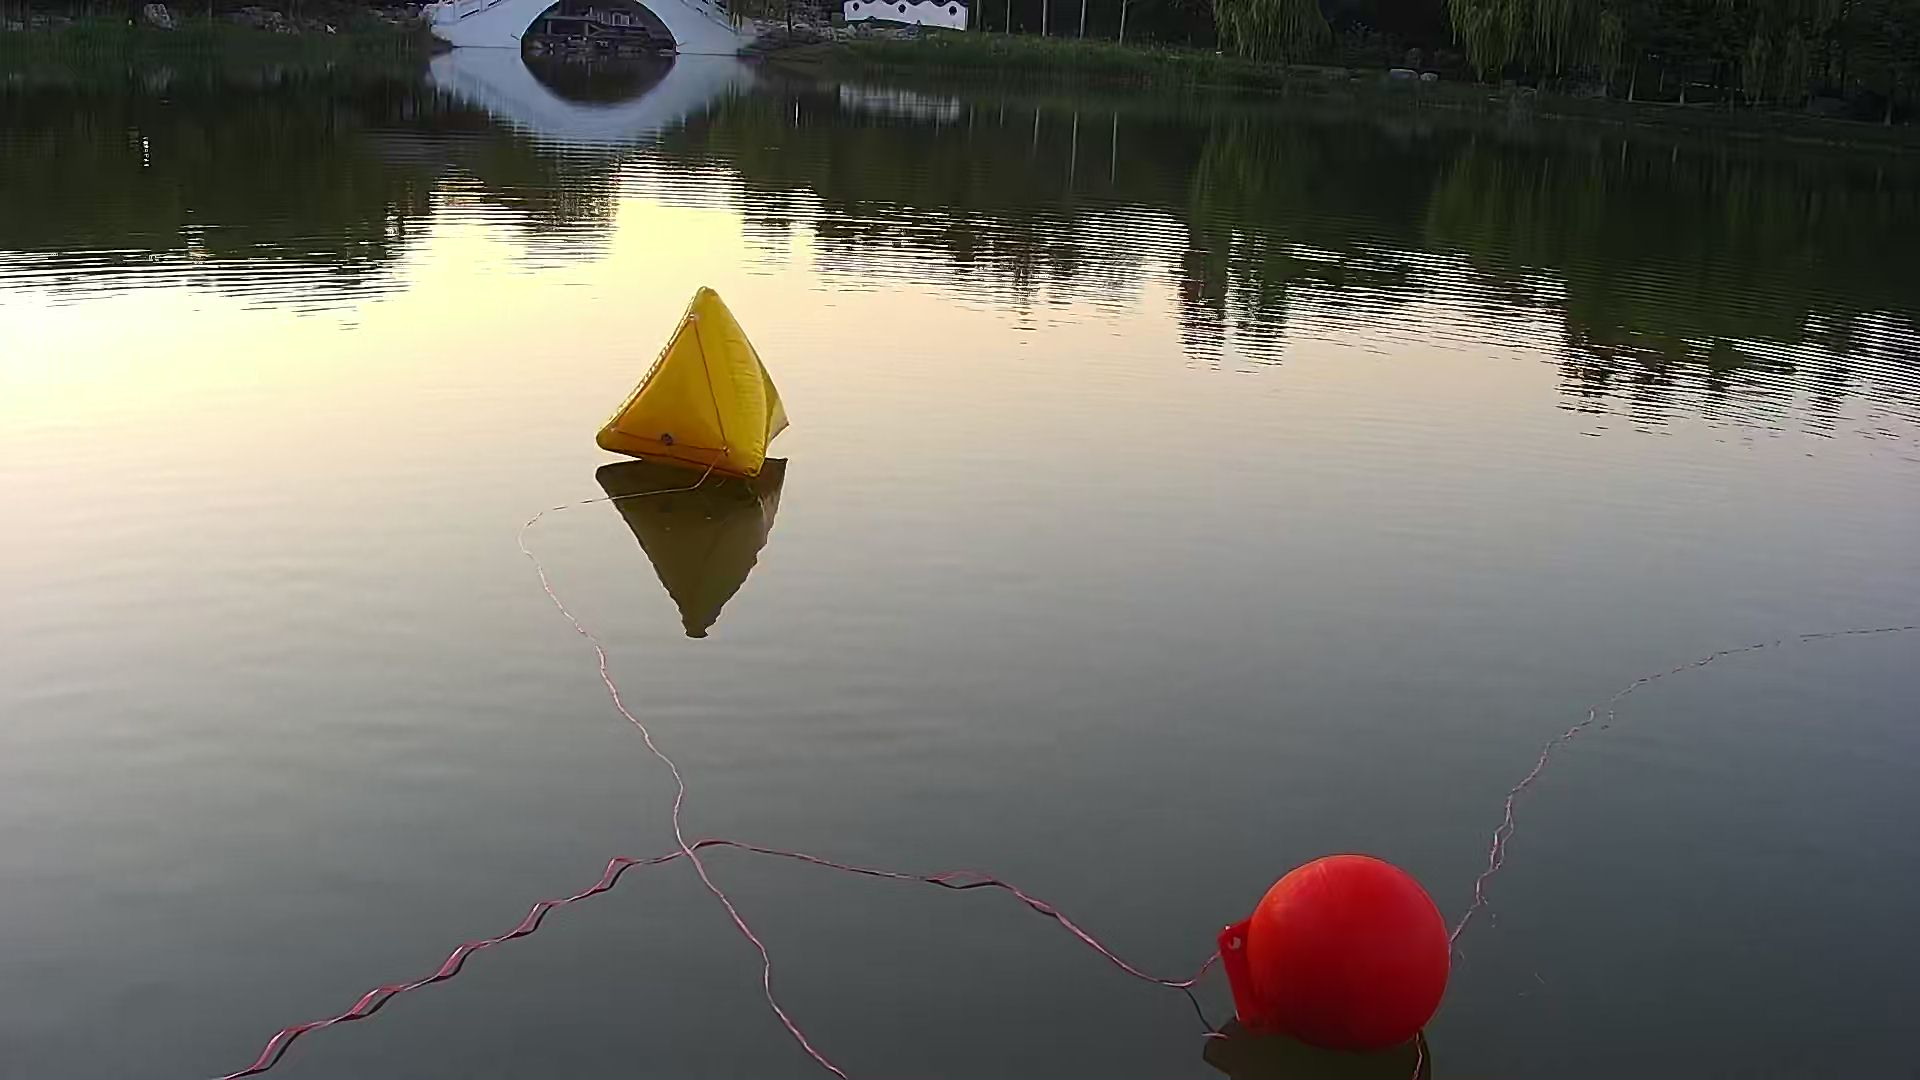ball: (1215, 853, 1461, 1054)
rubbish: (588, 278, 806, 489)
